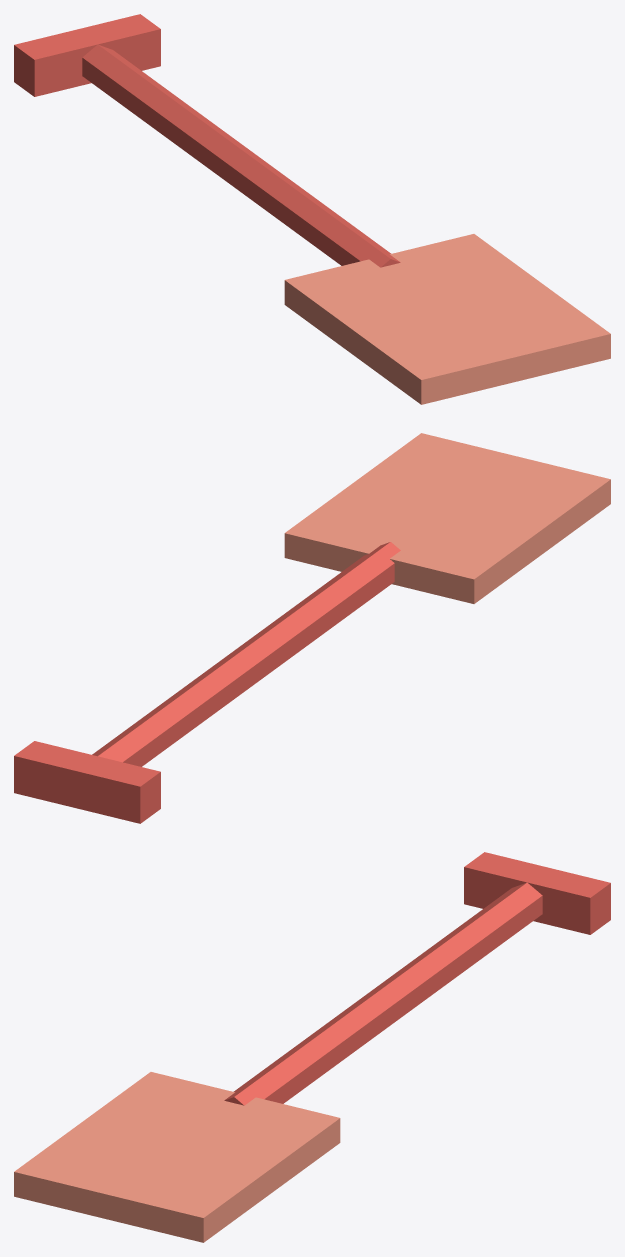
The model's file is Spade.fbx.
3 views of the same model, one above another, from view 1: azimuth 30°, elevation 25°; view 2: azimuth 150°, elevation 25°; view 3: azimuth 330°, elevation 25° (orthographic).
Visible parts, largest first — view 1: Body; view 2: Body; view 3: Body.
Part boxes in pixels (left/top/right/bottom): Body: left=14, top=14, right=610, bottom=404; Body: left=14, top=433, right=610, bottom=823; Body: left=14, top=852, right=610, bottom=1242.
Bounding box in the file's own units: 0.24 × 0.045 × 0.9625.
